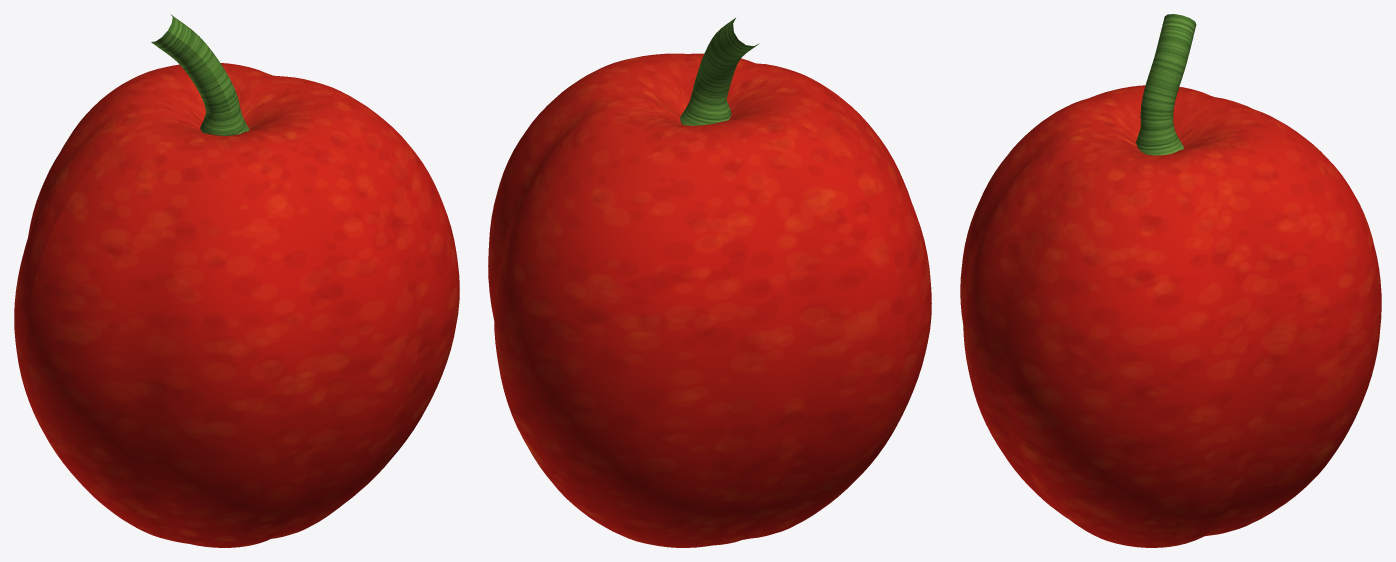
The model's file is Red_Bell_Pepper.glb.
3 views of the same model, side by side, from view 1: azimuth 30°, elevation 25°; view 2: azimuth 150°, elevation 25°; view 3: azimuth 270°, elevation 25° (orthographic). The views are drawn at different scales.
Parts seen in each view (by area): view 1: Red_Bell_Pepper_Body, Red_Bell_Pepper_Stem; view 2: Red_Bell_Pepper_Body, Red_Bell_Pepper_Stem; view 3: Red_Bell_Pepper_Body, Red_Bell_Pepper_Stem.
Boxes of the visible parts, x1,y1,x2,y2 form: Red_Bell_Pepper_Body: (14, 63, 459, 547); Red_Bell_Pepper_Stem: (151, 14, 249, 135); Red_Bell_Pepper_Body: (488, 53, 931, 547); Red_Bell_Pepper_Stem: (680, 18, 759, 125); Red_Bell_Pepper_Body: (960, 85, 1381, 547); Red_Bell_Pepper_Stem: (1136, 14, 1196, 155).
Bounding box in the file's own units: 0.9343 × 1.13 × 0.8993.
2 materials, 2 textured.
